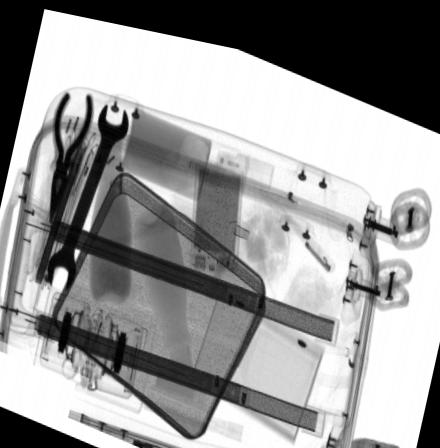Pliers: (47, 85, 91, 222)
Powerbank: (187, 151, 243, 265)
Wrench: (46, 97, 128, 288)
